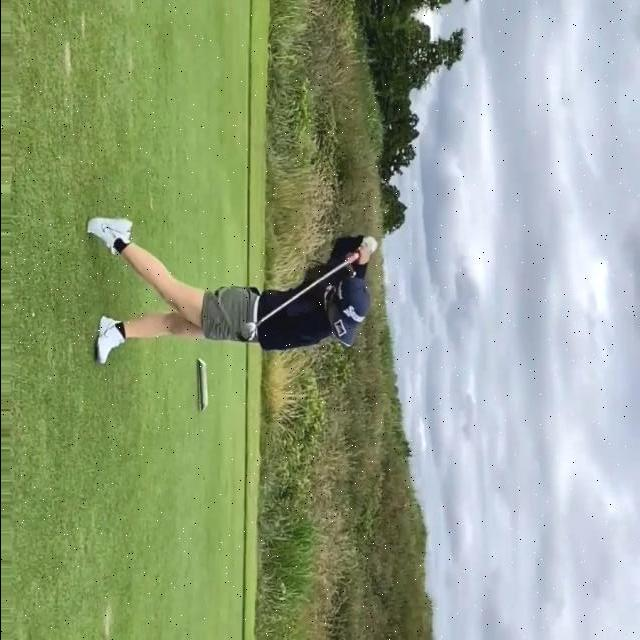golf club-handle: (237, 253, 358, 342)
golf club-head: (237, 322, 255, 342)
